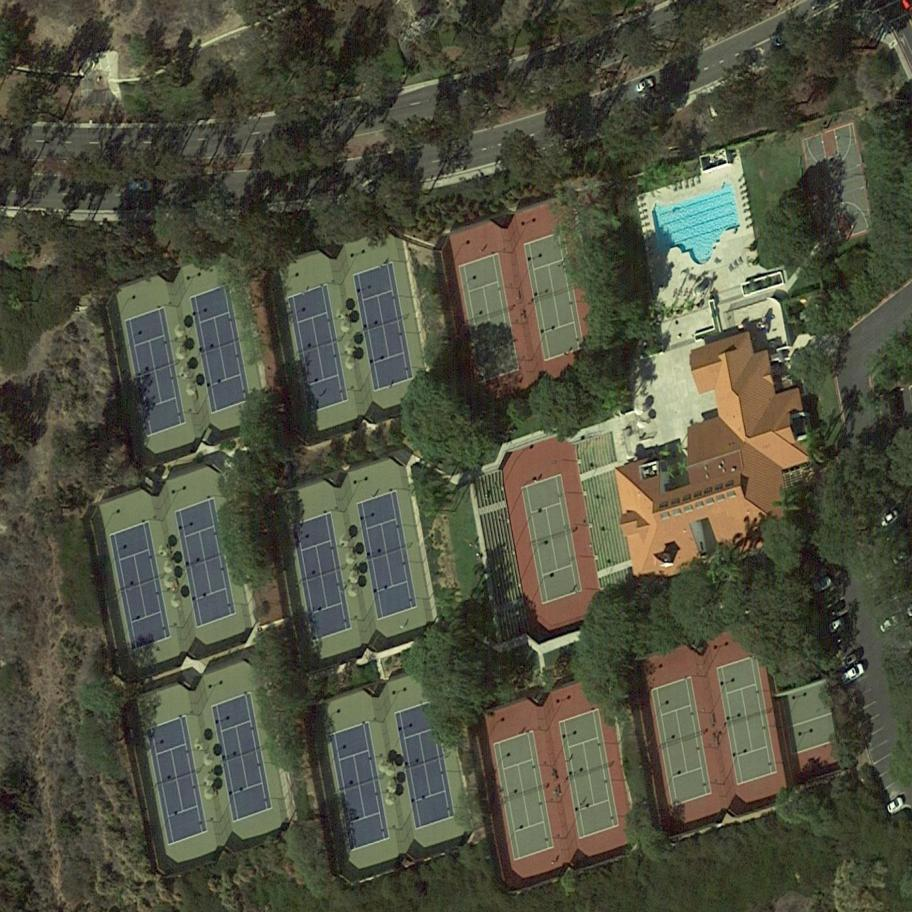small-vehicle: (838, 660, 869, 687), (878, 507, 902, 529), (884, 794, 908, 815), (825, 599, 848, 619), (877, 615, 899, 634), (772, 30, 795, 48), (891, 547, 912, 566), (827, 616, 850, 633), (838, 652, 859, 670), (811, 576, 833, 593), (634, 76, 655, 92), (128, 180, 152, 191)
